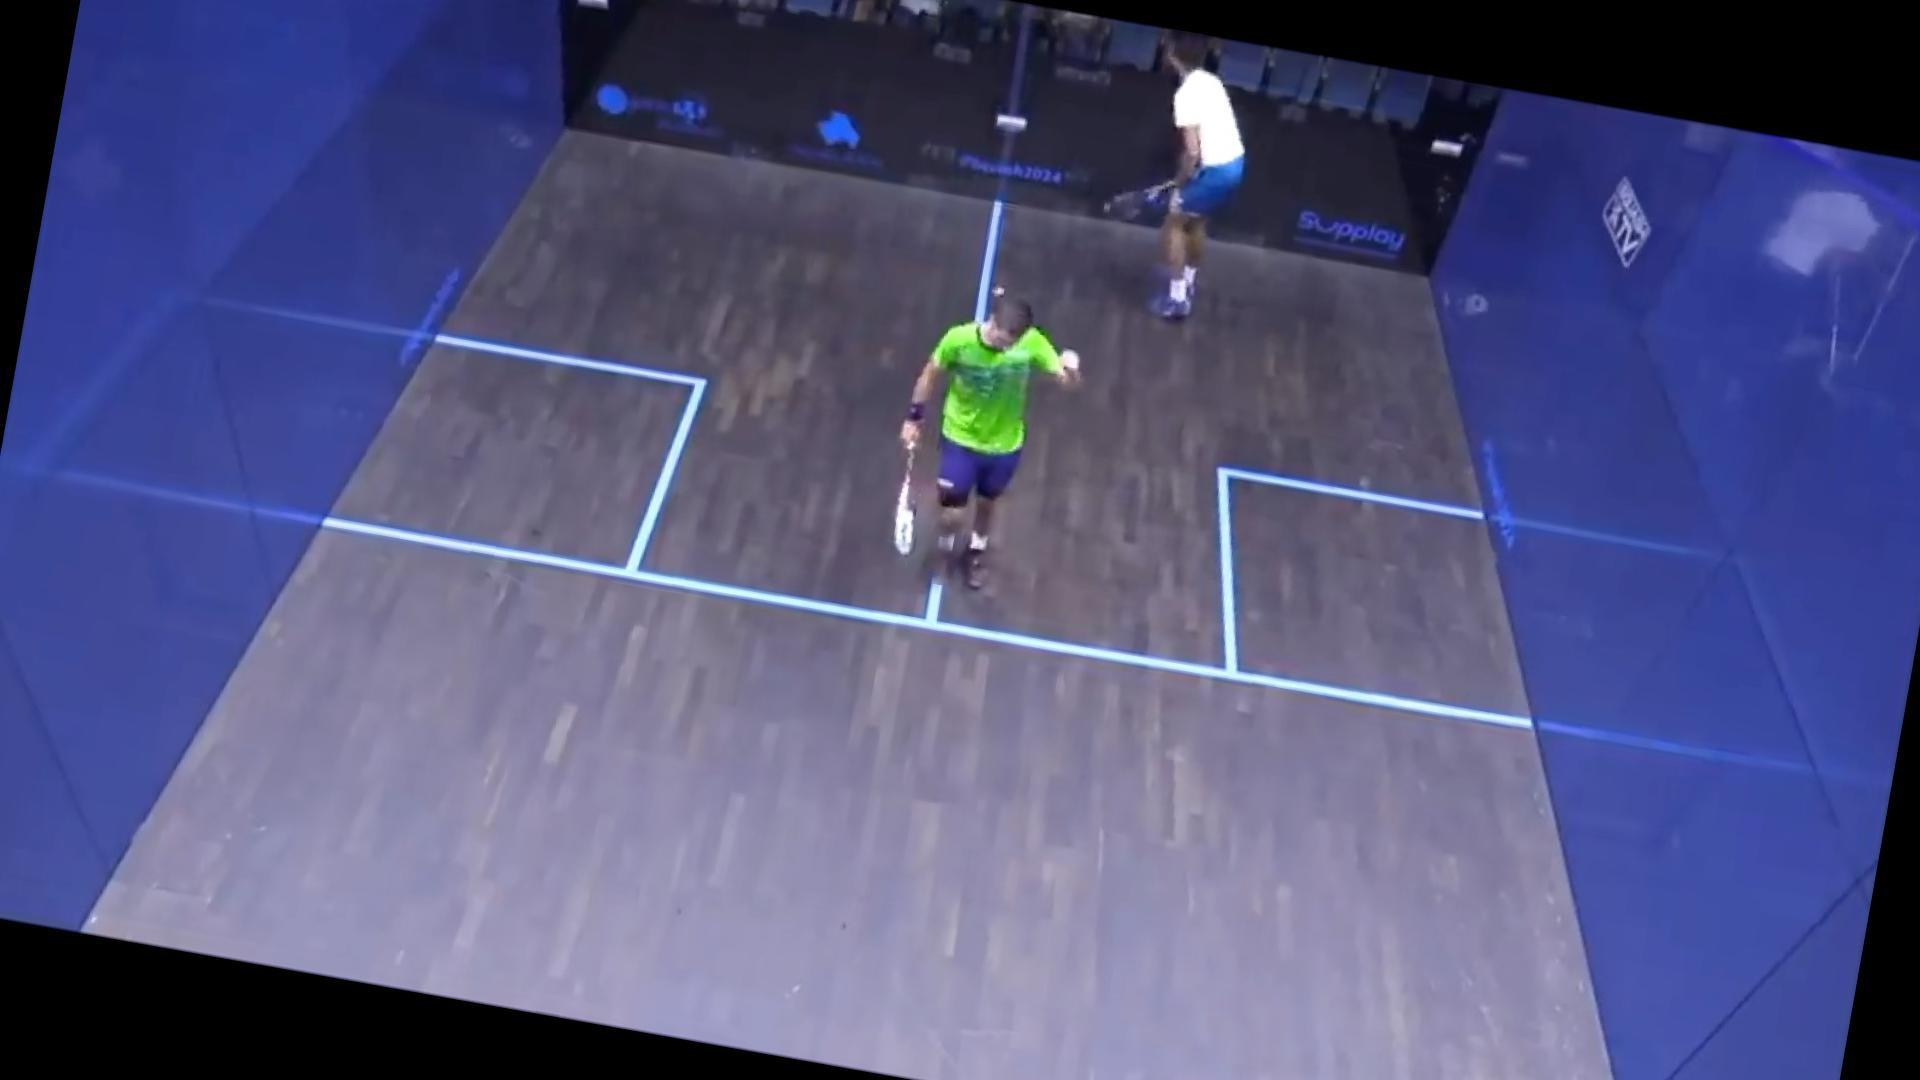Squash-Ball: (978, 276, 1021, 309)
